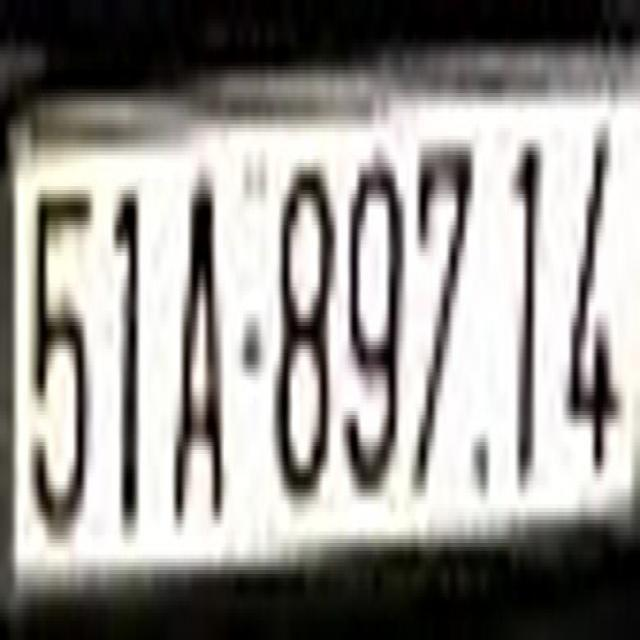1: (496, 132, 542, 477), (113, 182, 144, 520)
4: (566, 112, 620, 474)
5: (31, 182, 90, 555)
7: (414, 140, 478, 497)
8: (276, 159, 334, 493)
9: (344, 152, 397, 496)
A: (163, 175, 228, 528)
